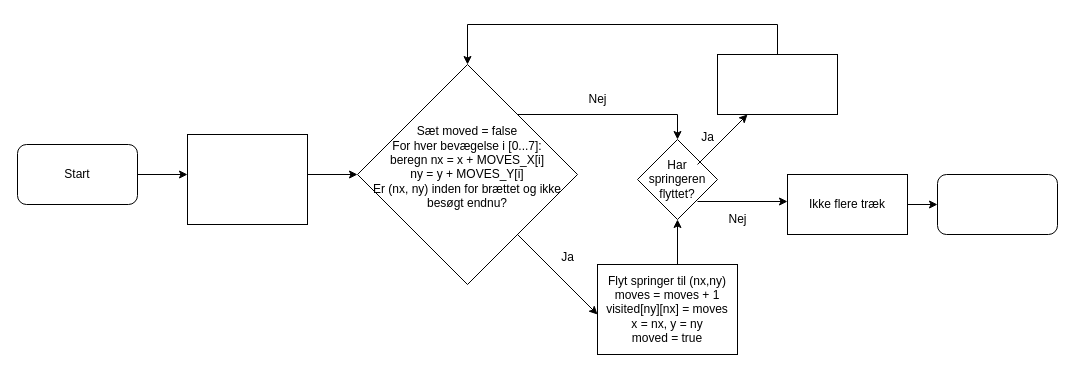
Image size: 1075x372. Some labels were removed from this diagram. The box of each missing label's shape, as (x1, y1, x2, y2) in pixels:
Gentag: (716, 54, 838, 114)
initialiser: - Sæt alle felter i 'visited' = 0 - visited[y][x] = 1 - moves = 1: (186, 134, 308, 224)
Slut: (936, 174, 1058, 234)
